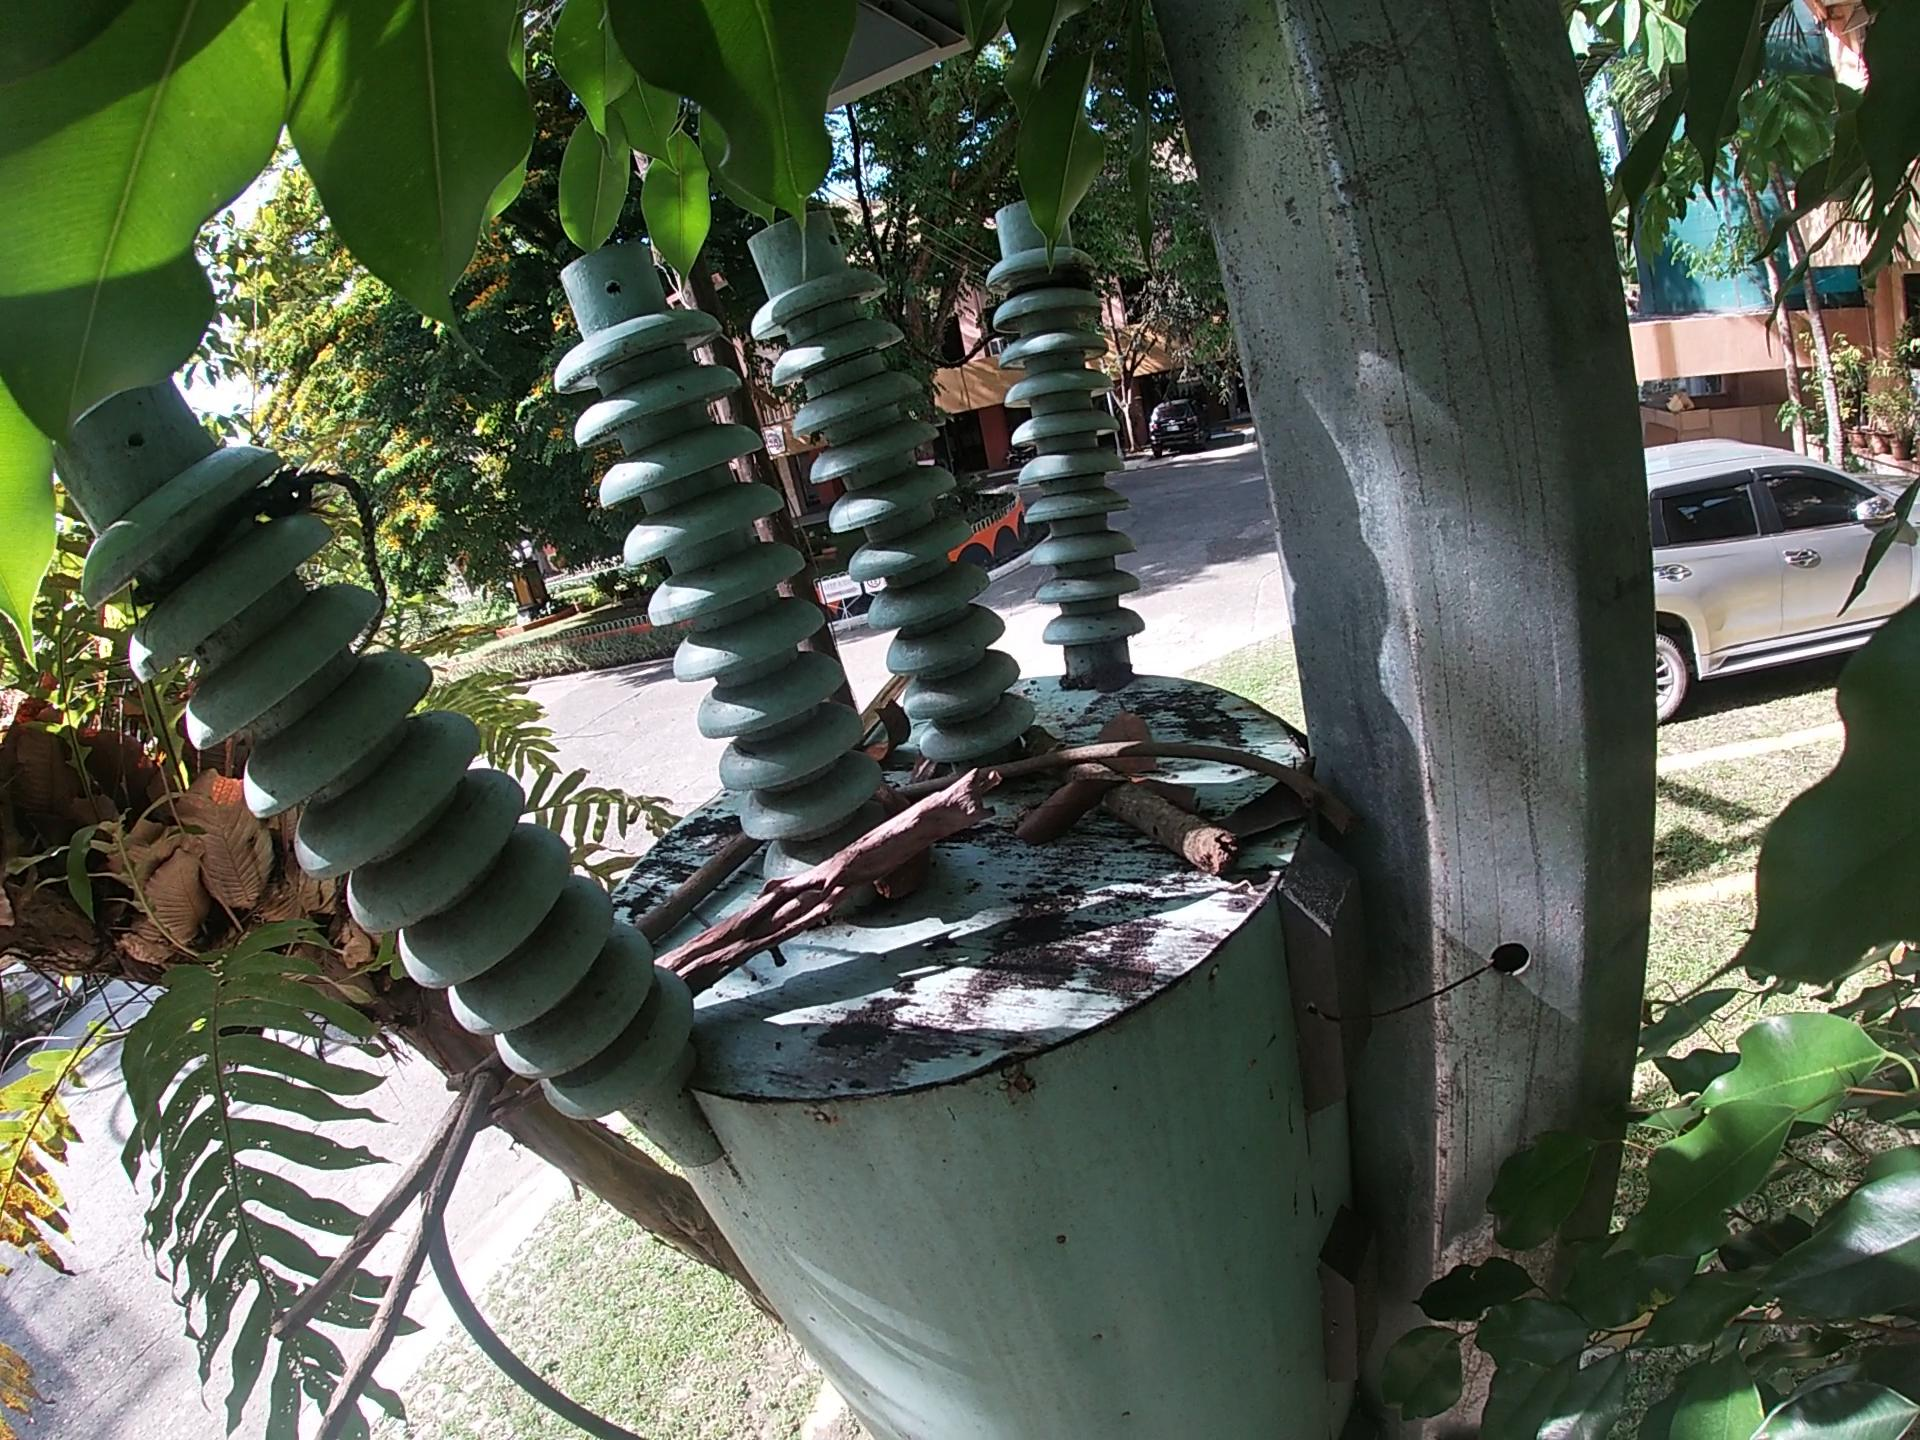leaf: (1013, 777, 1129, 874), (1092, 717, 1197, 779)
mahogany fruit: (859, 696, 922, 777)
tree branch: (234, 1059, 559, 1435), (638, 768, 1027, 985), (878, 738, 1352, 827), (1048, 722, 1243, 871), (635, 832, 770, 936), (851, 650, 918, 725)
